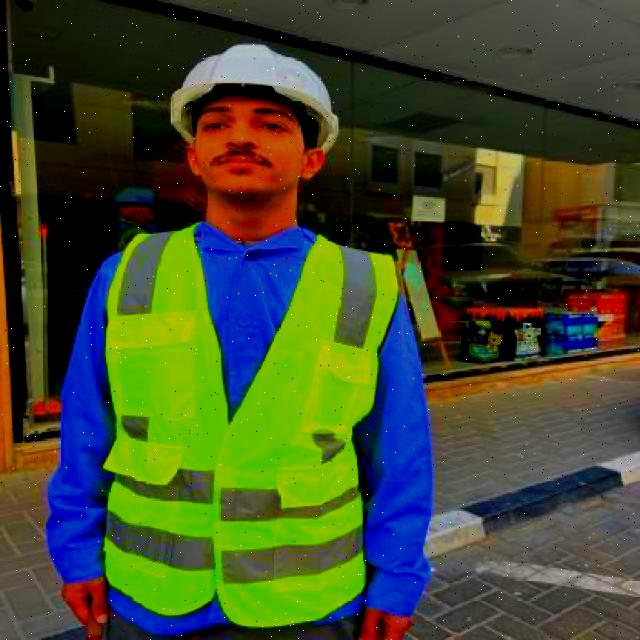Helmet: (156, 48, 356, 127)
Mask: (100, 230, 380, 632)
